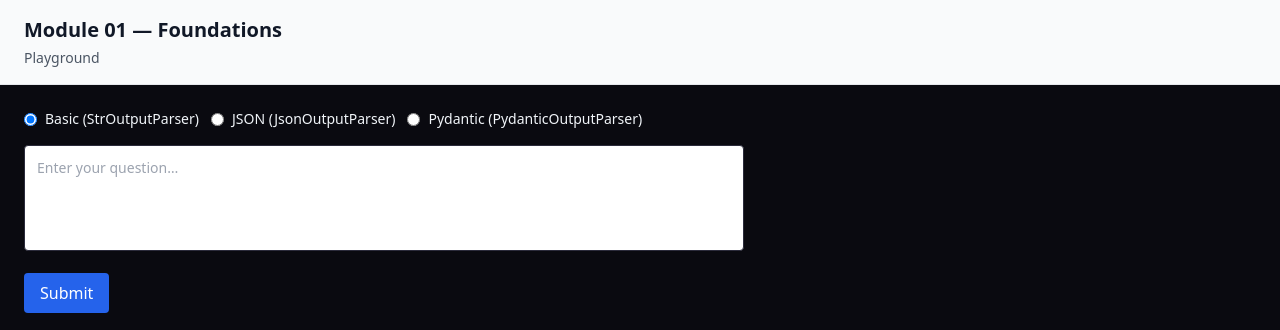
Test: Playground unit tests › loading state disables the submit button
The width and height of the screenshot is (1280, 330).
Type "test" into the text box with test id "query-input" at (384, 198), box x1=24 y1=145 x2=744 y2=251
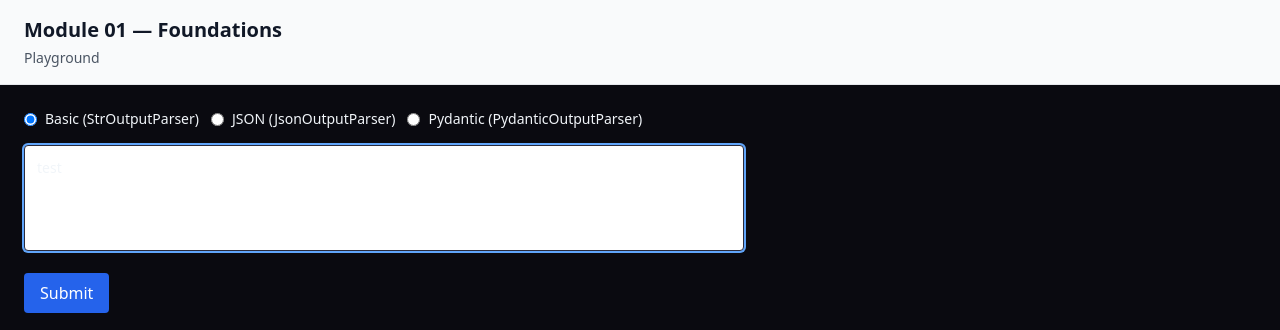
Click the button with test id "submit-btn" at (67, 293), box x1=24 y1=273 x2=109 y2=313
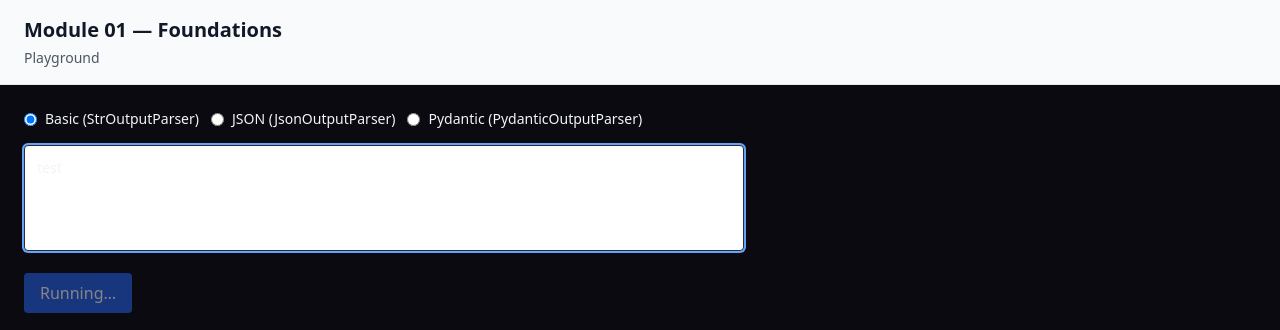
Check: the button with test id "submit-btn" is disabled, box x1=24 y1=273 x2=132 y2=313
